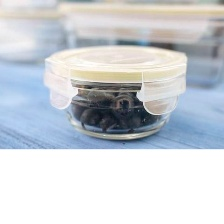plastic_box: (35, 38, 194, 146)
